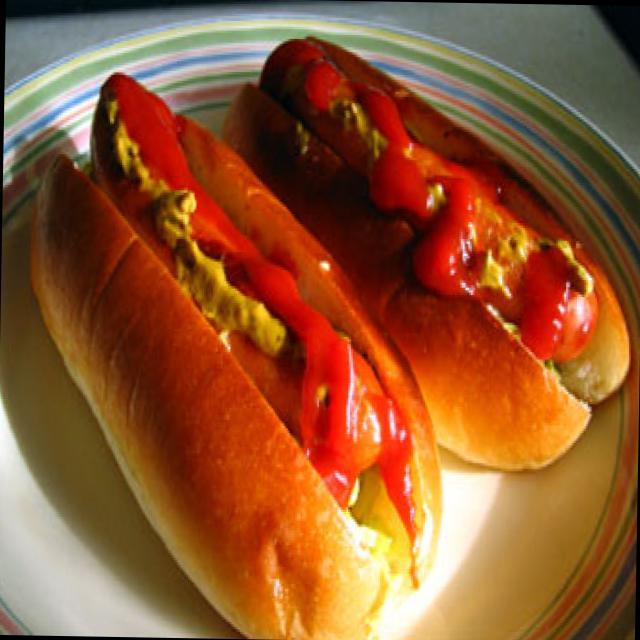Hot Dog: (41, 95, 425, 620), (249, 58, 631, 426)
